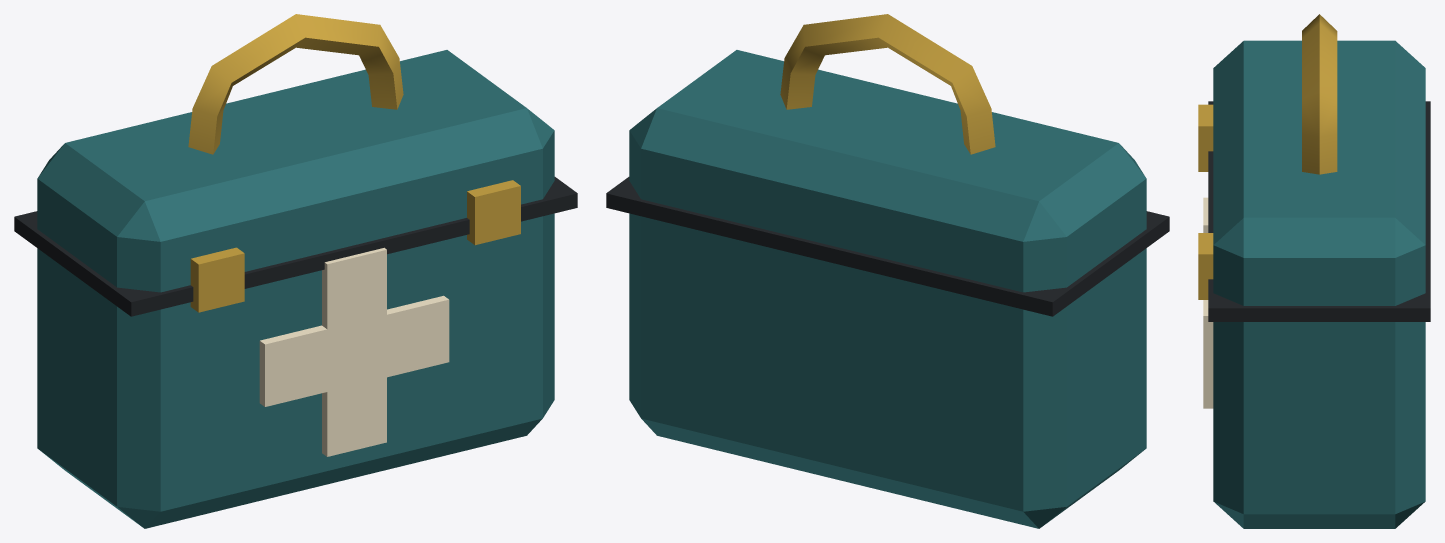
The model's file is Item_Medkit.fbx.
3 views of the same model, side by side, from view 1: azimuth 30°, elevation 25°; view 2: azimuth 150°, elevation 25°; view 3: azimuth 270°, elevation 25° (orthographic). The views are drawn at different scales.
Visible parts, largest first — view 1: Medkit; view 2: Medkit; view 3: Medkit.
Boxes of the visible parts, x1,y1,x2,y2 form: Medkit: (14,14,577,528); Medkit: (606,14,1169,528); Medkit: (1198,14,1430,528).
Size of the model in its own units: 0.97 by 0.9114 by 0.46.
